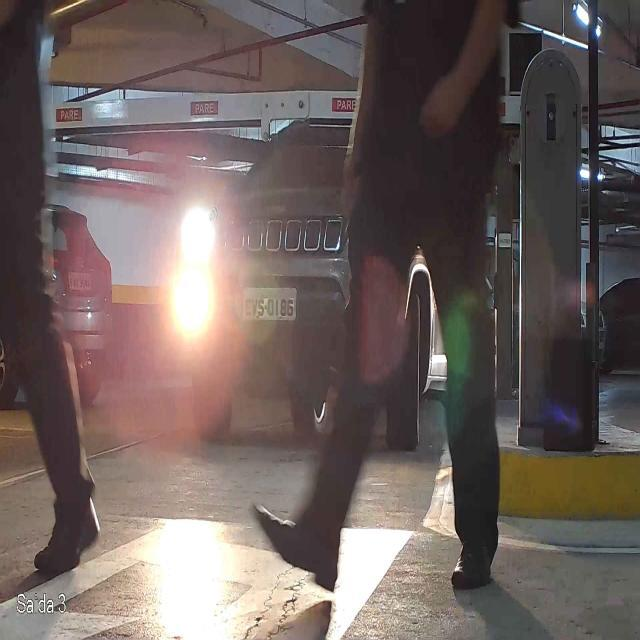old_plate: (237, 285, 298, 322)
